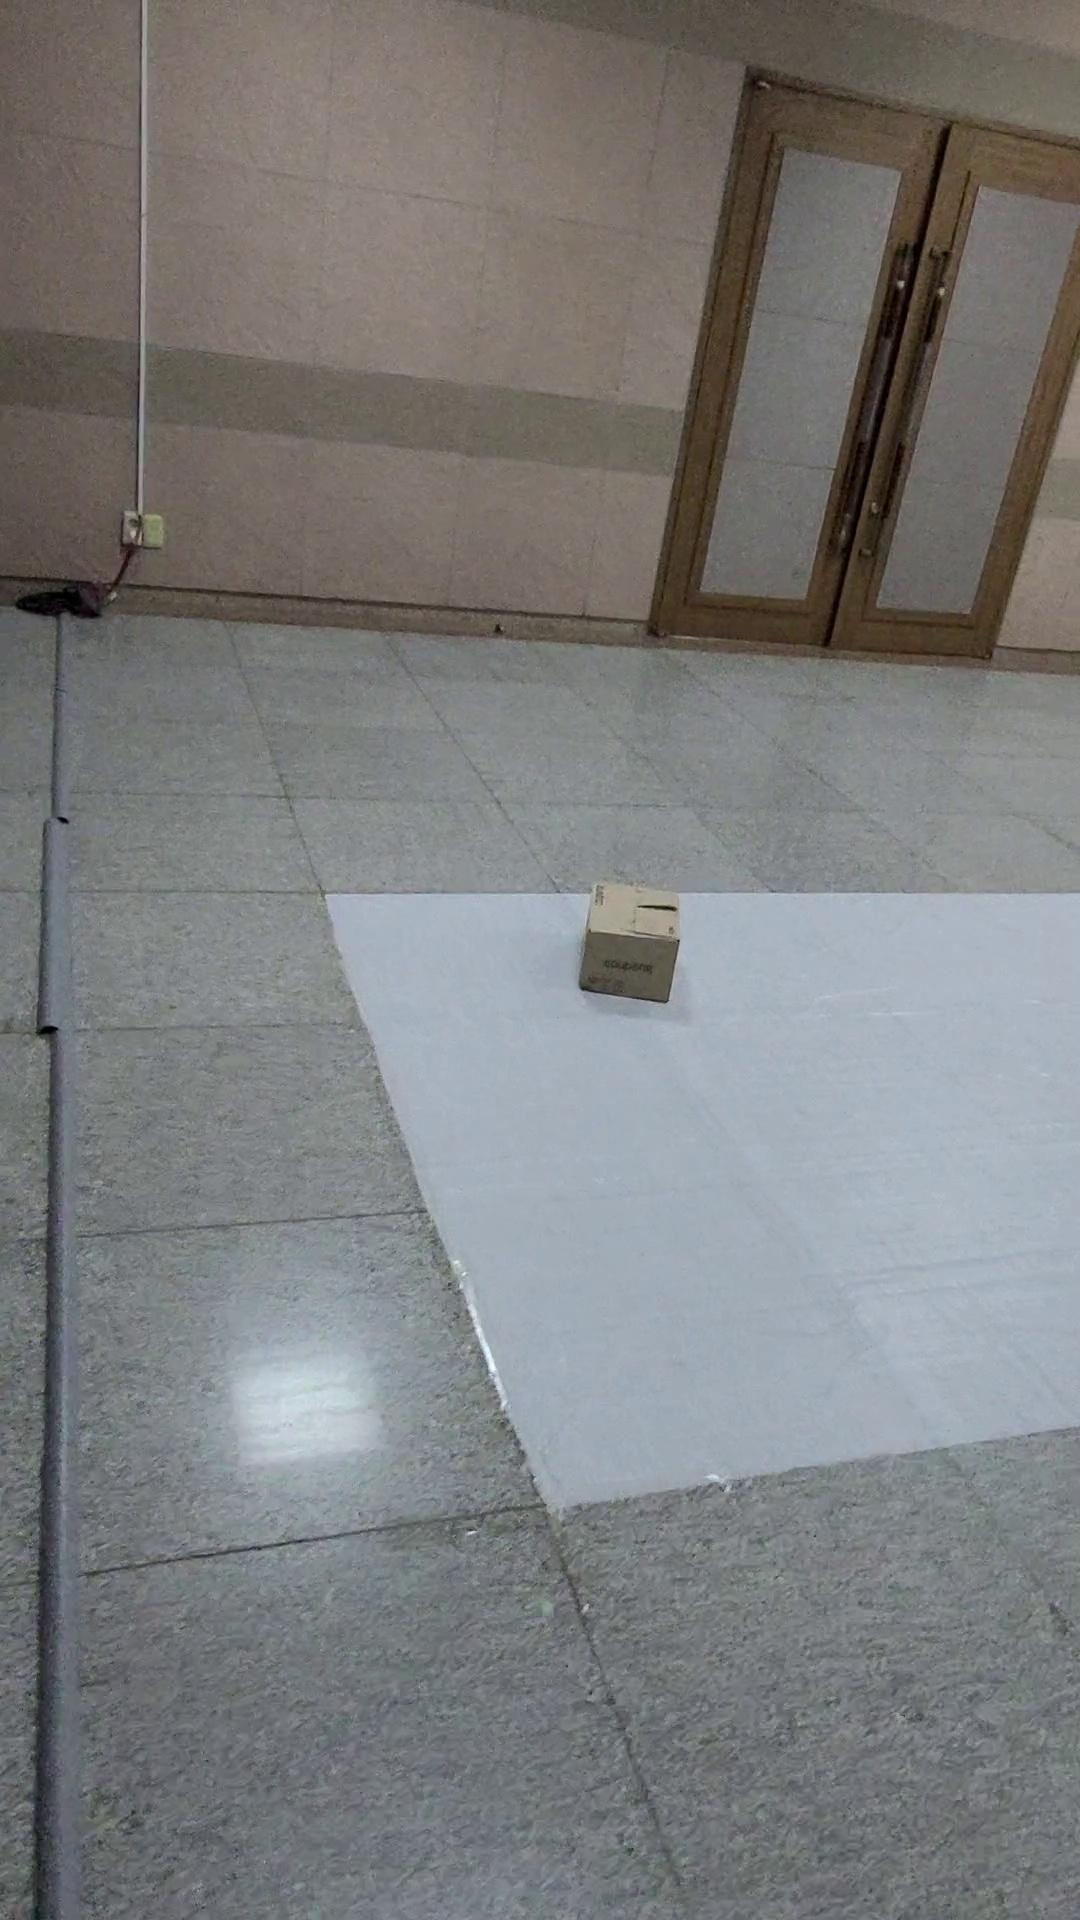Box: (563, 860, 698, 1011)
